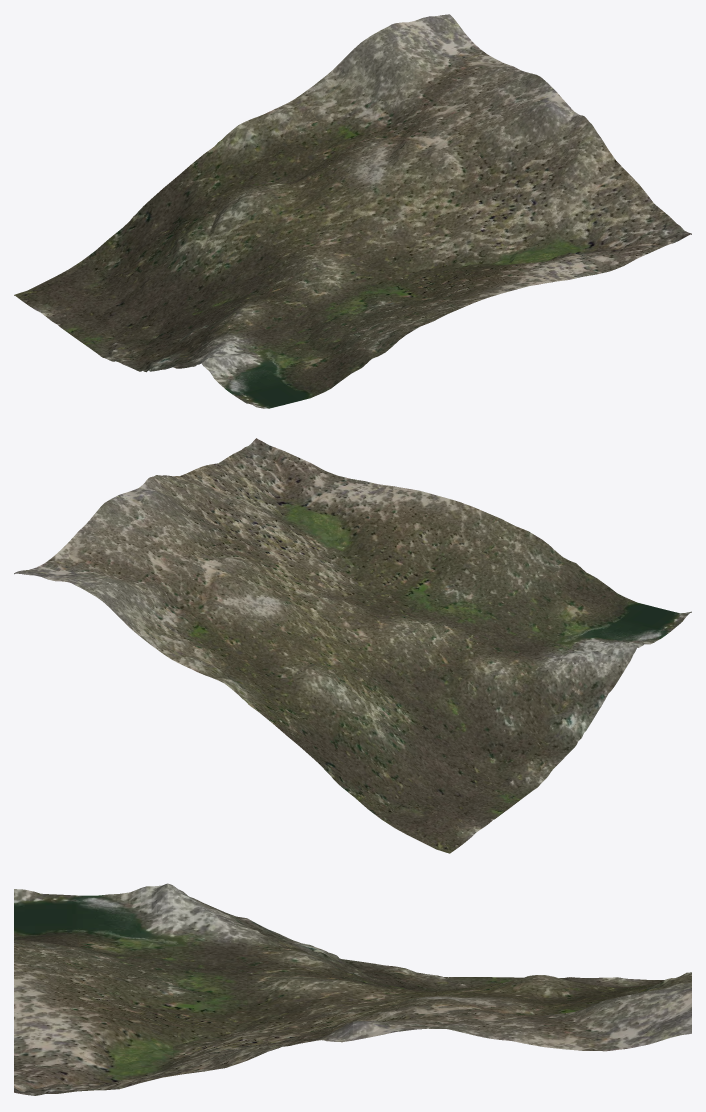
The picture shows the model from 3 angles, top to bottom: view 1: azimuth 30°, elevation 25°; view 2: azimuth 150°, elevation 25°; view 3: azimuth 270°, elevation 25°; orthographic projection. The views are drawn at different scales.
Size of the model in its own units: 1000 by 394 by 963.
1 material, 1 textured.
